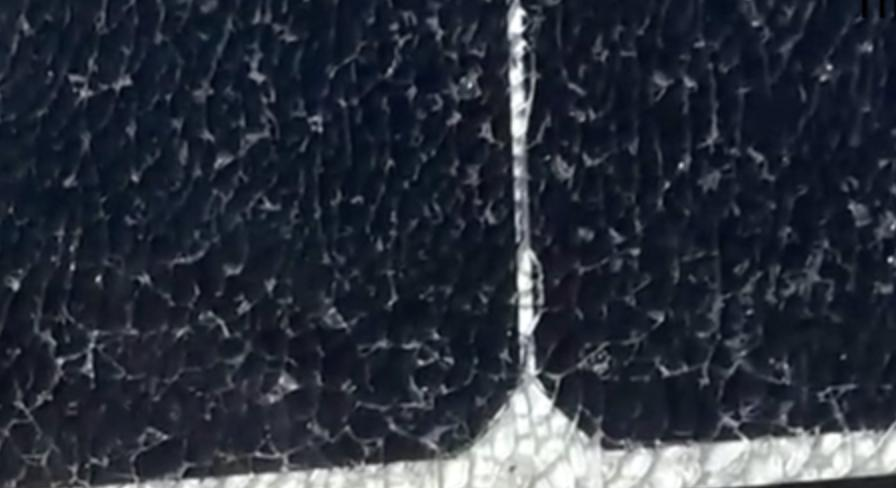Crack: (15, 5, 883, 435)
